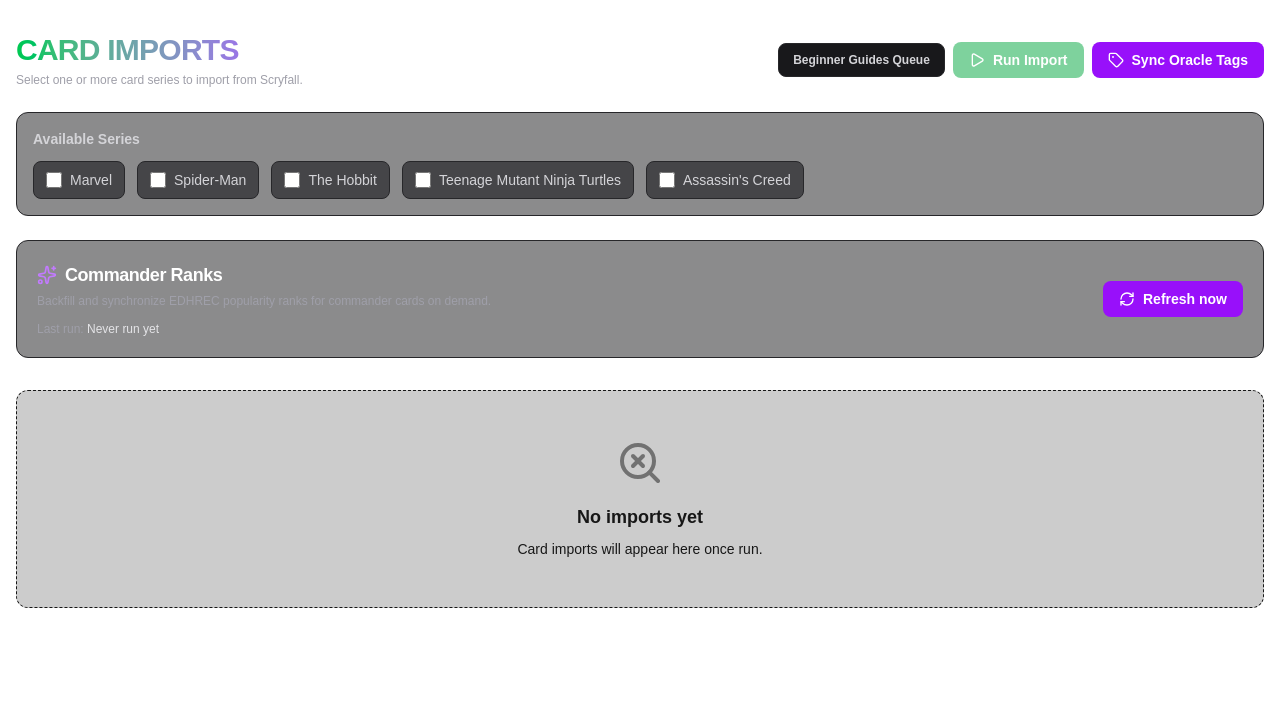
Scenario: Admin Card Imports - Series Checkbox Picker › disables submit button again if all selected checkboxes are unchecked
The width and height of the screenshot is (1280, 720).
Expected: the button "Run Import" is disabled, left=953, top=42, right=1084, bottom=78
What coordinates should you click on to do the following:
click the checkbox labelled "The Hobbit"
I would click on:
 (292, 180)
Its box is left=284, top=172, right=300, bottom=188.
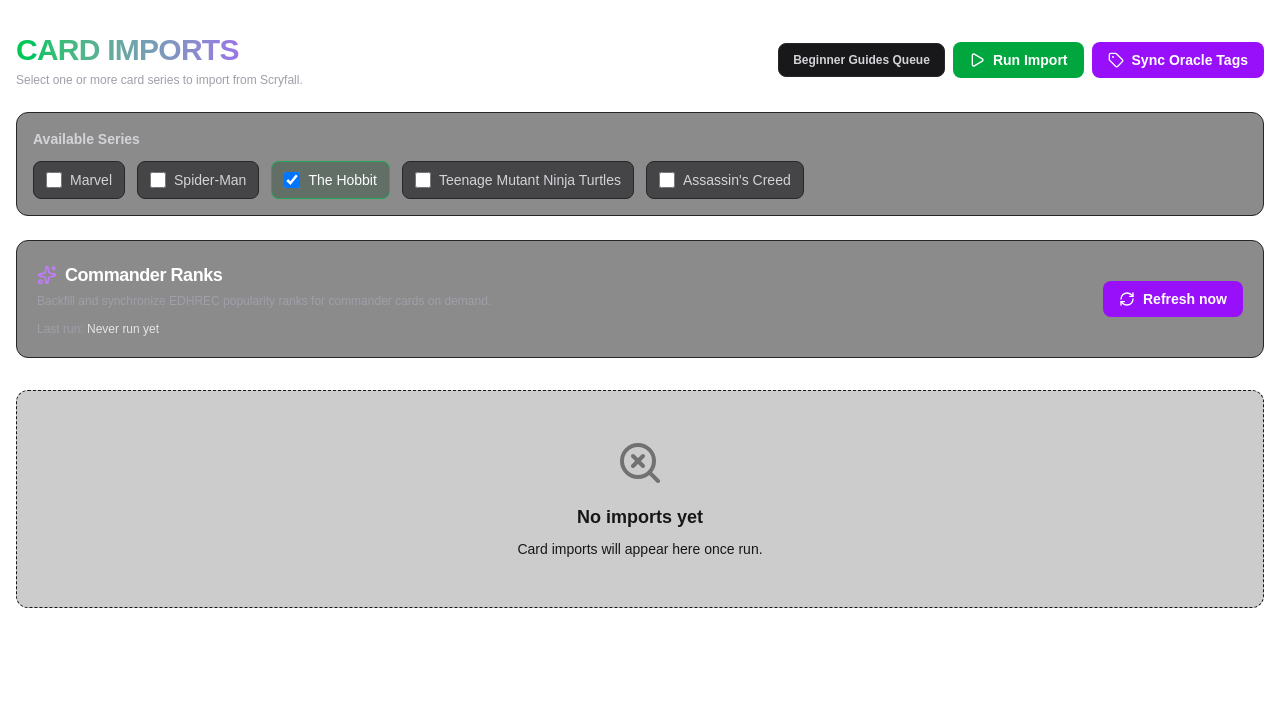
Now the checkbox labelled "The Hobbit" is checked
Now the button "Run Import" is enabled, box left=953, top=42, right=1084, bottom=78
What coordinates should you click on to do the following:
click the checkbox labelled "The Hobbit"
I would click on:
 (292, 180)
Its box is left=284, top=172, right=300, bottom=188.
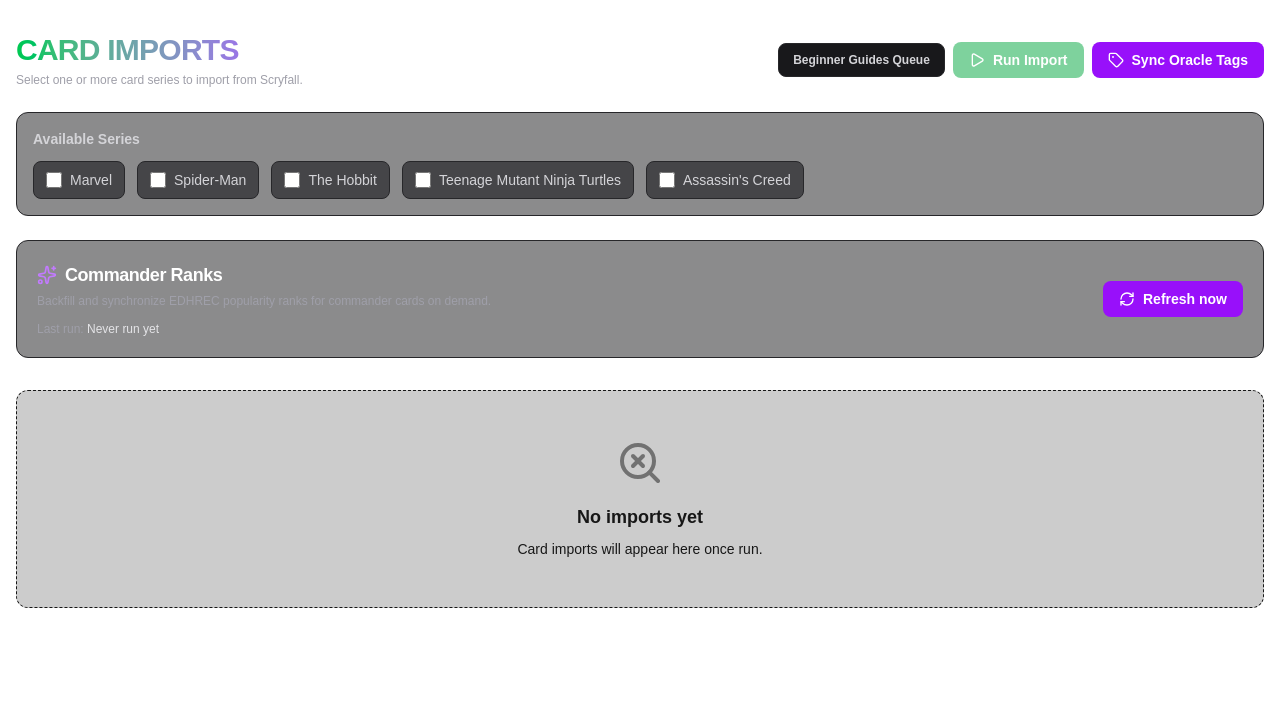
Now the checkbox labelled "The Hobbit" is not checked, box left=284, top=172, right=300, bottom=188
Now the button "Run Import" is disabled, box left=953, top=42, right=1084, bottom=78
